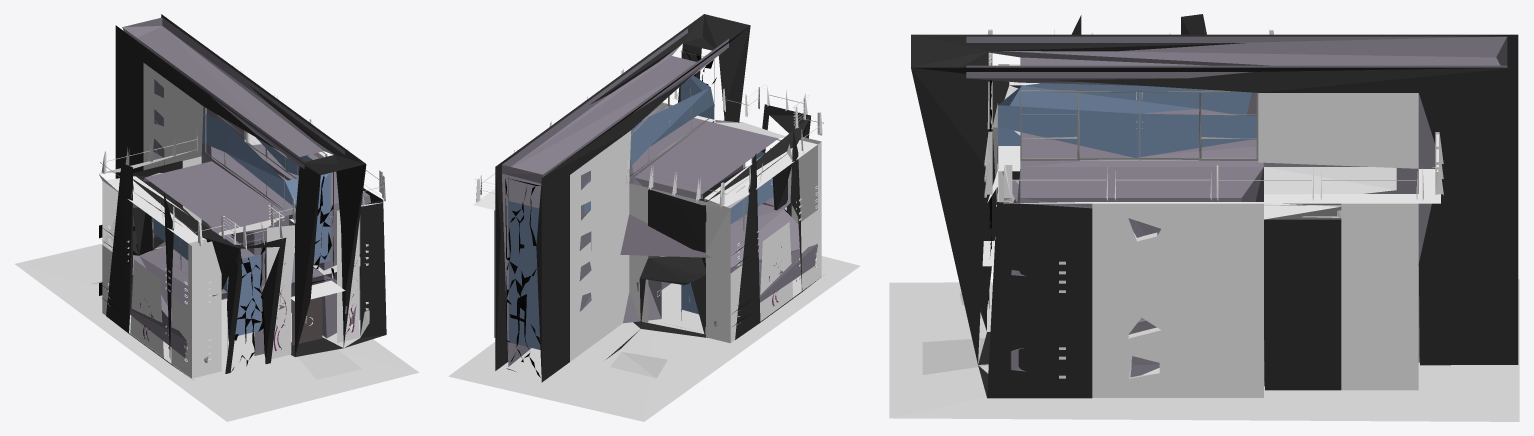
Rendered from house-5marla.lod1.glb.
3 views of the same model, side by side, from view 1: azimuth 30°, elevation 25°; view 2: azimuth 150°, elevation 25°; view 3: azimuth 270°, elevation 25° (orthographic). The views are drawn at different scales.
Visible parts, largest first — view 1: Modern House_0; view 2: Modern House_0; view 3: Modern House_0.
Part boxes in pixels (bbox=[...]): Modern House_0: bbox=[15, 14, 418, 421]; Modern House_0: bbox=[448, 14, 860, 421]; Modern House_0: bbox=[889, 14, 1519, 421].
Bounding box in the file's own units: 8.5 × 9 × 16.
Materials: 3 (3 with a texture image).
